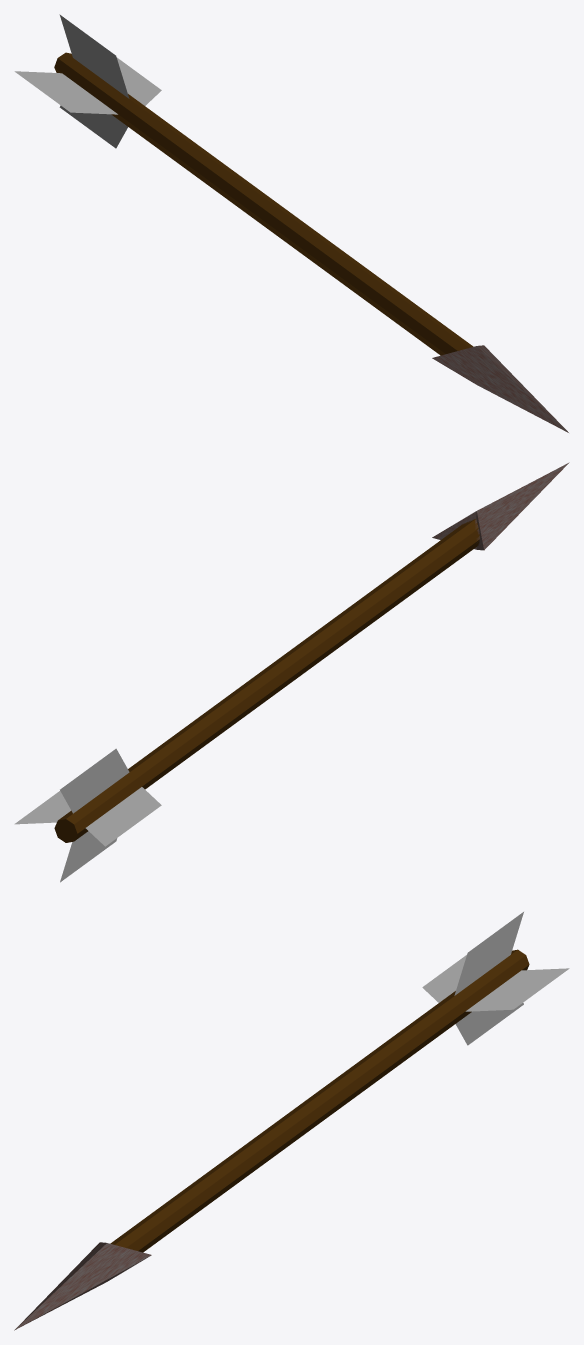
File: Arrow.fbx
3 views of the same model, one above another, from view 1: azimuth 30°, elevation 25°; view 2: azimuth 150°, elevation 25°; view 3: azimuth 330°, elevation 25° (orthographic).
Visible parts, largest first — view 1: Arrow.003; view 2: Arrow.003; view 3: Arrow.003.
Part boxes in pixels (<box>): Arrow.003: <box>14,14,568,432</box>; Arrow.003: <box>14,462,569,882</box>; Arrow.003: <box>14,912,569,1330</box>.
Size of the model in its own units: 39.51 by 38.46 by 382.
1 material, 1 textured.
